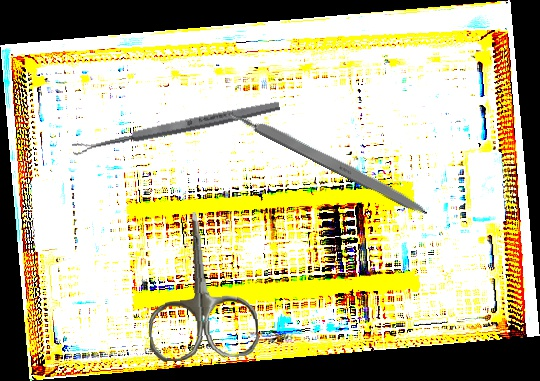Iris Scissors: (141, 208, 260, 363)
Scalpel Handle: (228, 104, 432, 219)
Surgical Spoon: (71, 98, 281, 157)
